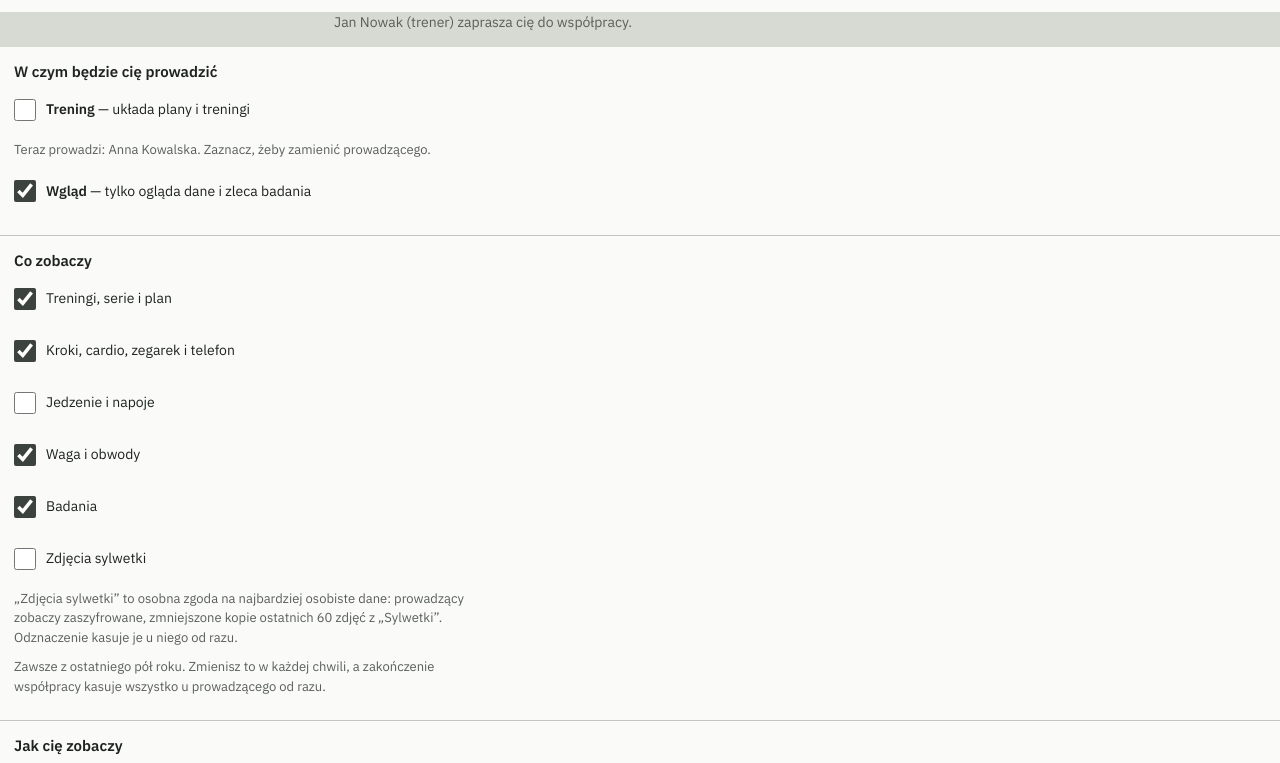
Test: zaproszenie › zajęty obszar: kto go prowadzi, odznaczony; zaznaczenie mówi, co stanie się z dawną współpracą
Expected: the checkbox labelled "Wgląd — tylko ogląda dane i zleca badania" is checked, [14, 180, 36, 202]
Expected: the text "Teraz prowadzi: Anna Kowalska" is shown, [14, 140, 431, 158]
Click the checkbox labelled "Trening — układa plany i treningi". click: [25, 110]
box: [14, 98, 36, 120]
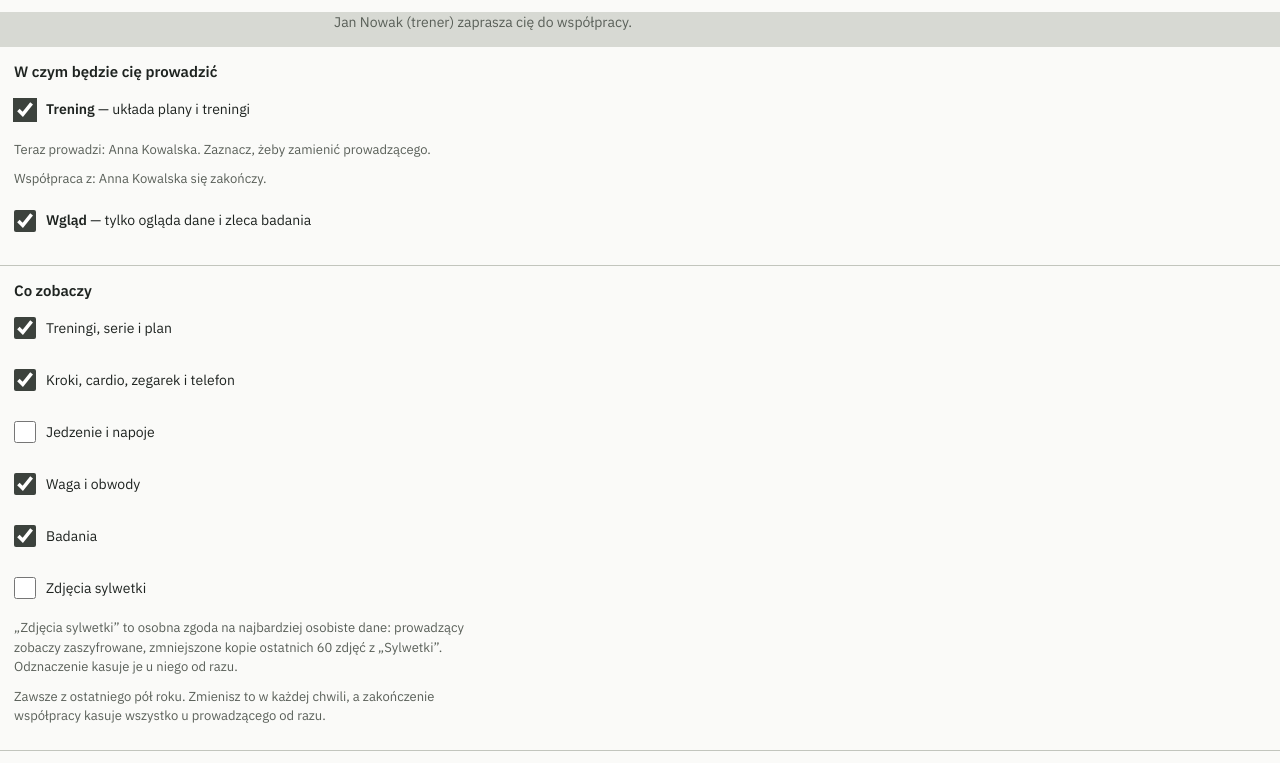
Expected: the text "Współpraca z: Anna Kowalska się zakończy." is shown, [14, 170, 266, 187]
